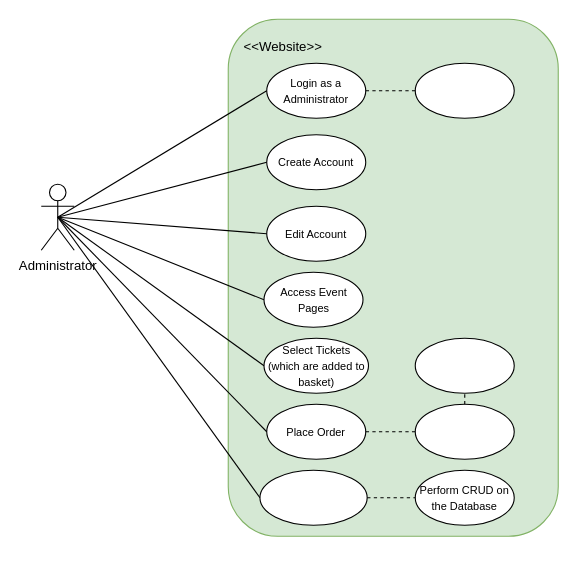
Some shapes in this 578 by 564 pixel diagram are drawn without their labels. Here are the shapes that lost their labels. From the top down, the centre of each, then its label:
point 464,90: Logout
point 464,365: Download Receipt
point 464,431: Apply Discount (optionally)
point 313,497: Access Special Admin-Only Pages
